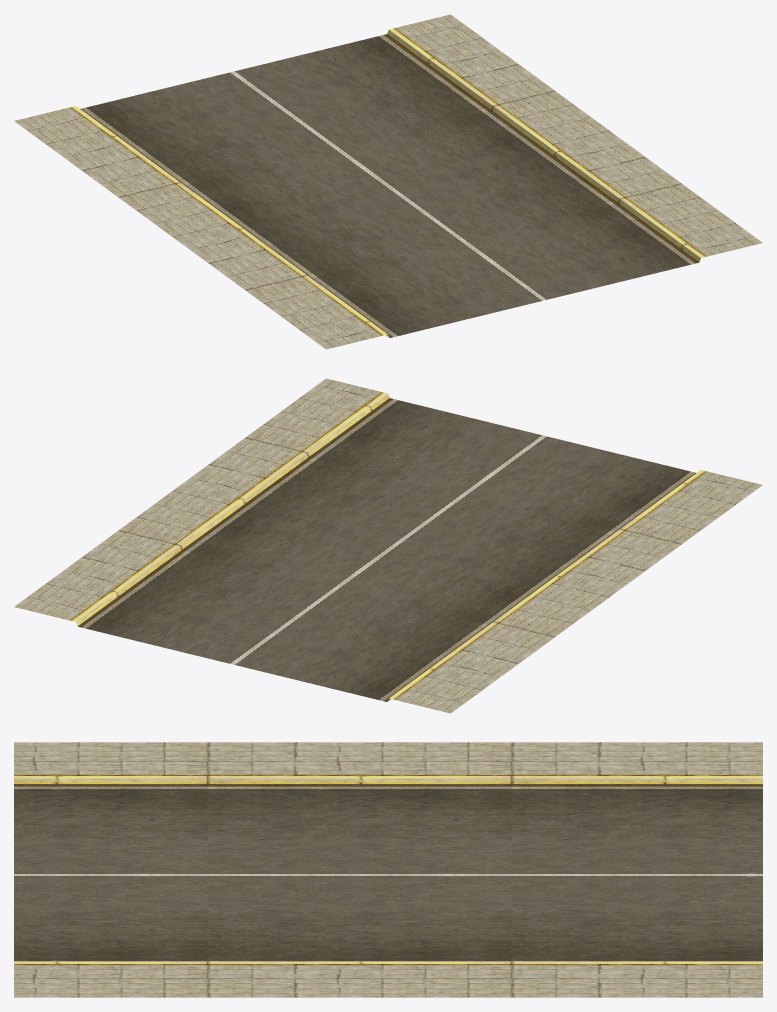
The model's file is Road3_Straight_A.fbx.
3 renders of one model, top to bottom at view 1: azimuth 30°, elevation 25°; view 2: azimuth 150°, elevation 25°; view 3: azimuth 270°, elevation 25°, orthographic. The views are drawn at different scales.
Parts seen in each view (by area): view 1: Road_Straight_A; view 2: Road_Straight_A; view 3: Road_Straight_A.
Boxes of the visible parts, x1,y1,x2,y2 form: Road_Straight_A: [14, 14, 762, 349]; Road_Straight_A: [14, 378, 762, 713]; Road_Straight_A: [14, 742, 762, 997].
Bounding box in the file's own units: 2255 × 20.38 × 2793.
